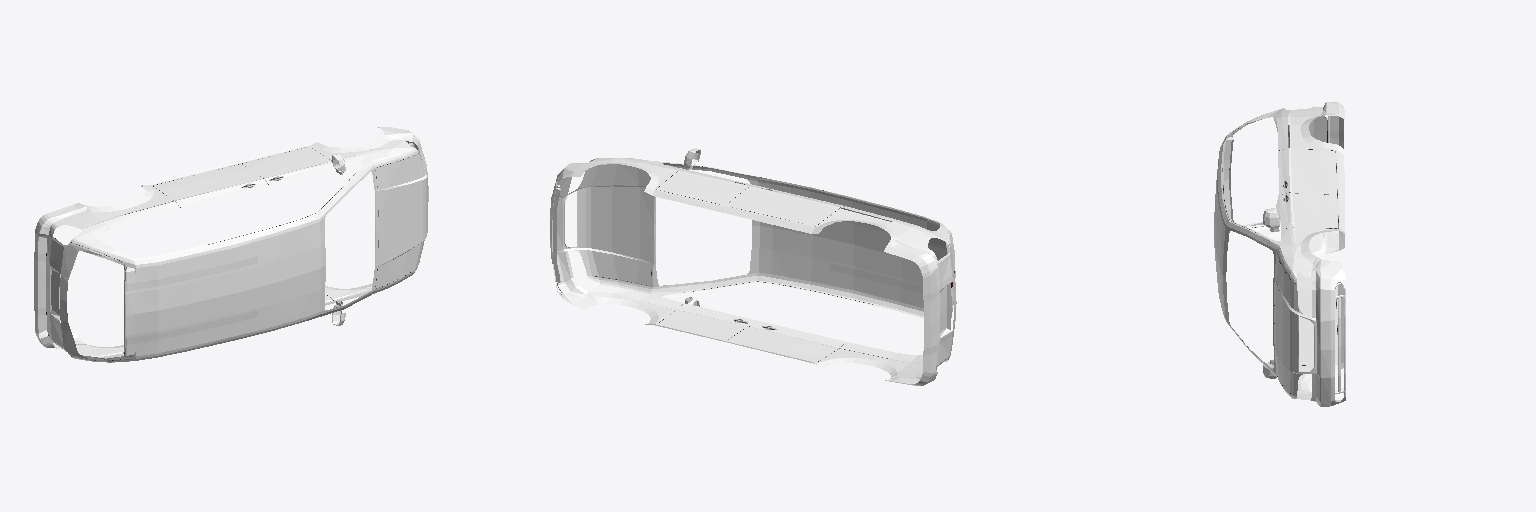
3 renders of one model, left to right at view 1: azimuth 30°, elevation 25°; view 2: azimuth 150°, elevation 25°; view 3: azimuth 270°, elevation 25°, orthographic.
Visible parts, largest first — view 1: baked; view 2: baked; view 3: baked.
Part boxes in pixels (x1,y1,x2,y2): baked: (34, 127, 428, 362); baked: (550, 148, 956, 385); baked: (1214, 102, 1345, 406).
Bounding box in the file's own units: 5.04 × 2.1 × 1.5.
Materials: 1 (1 with a texture image).